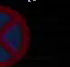No Stopping: (0, 2, 34, 66)
